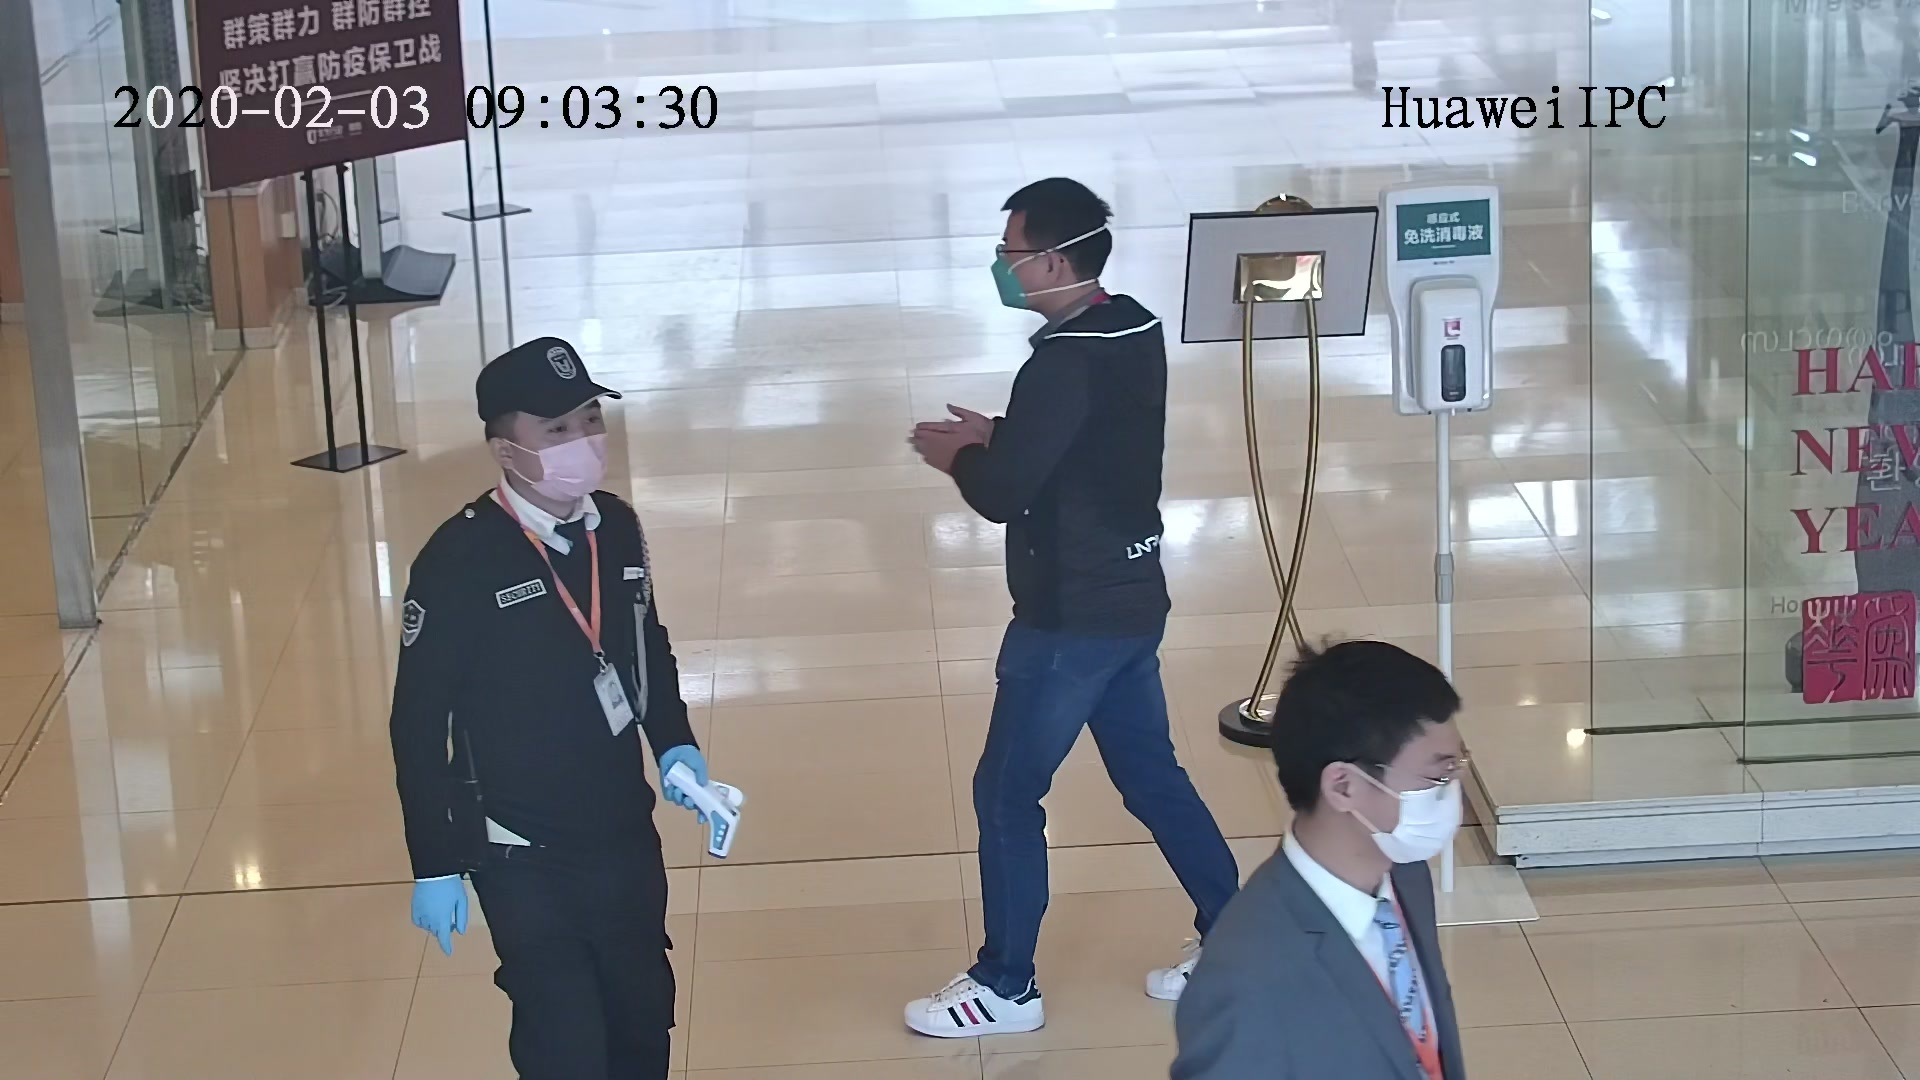face: (1356, 725, 1466, 871), (524, 405, 612, 503), (993, 212, 1044, 322)
mask: (1371, 798, 1458, 864), (541, 439, 615, 510), (993, 251, 1029, 312)
person: (1189, 630, 1462, 1002), (409, 326, 658, 623), (979, 171, 1168, 392)
